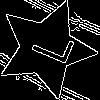L: (21, 23, 75, 67)
